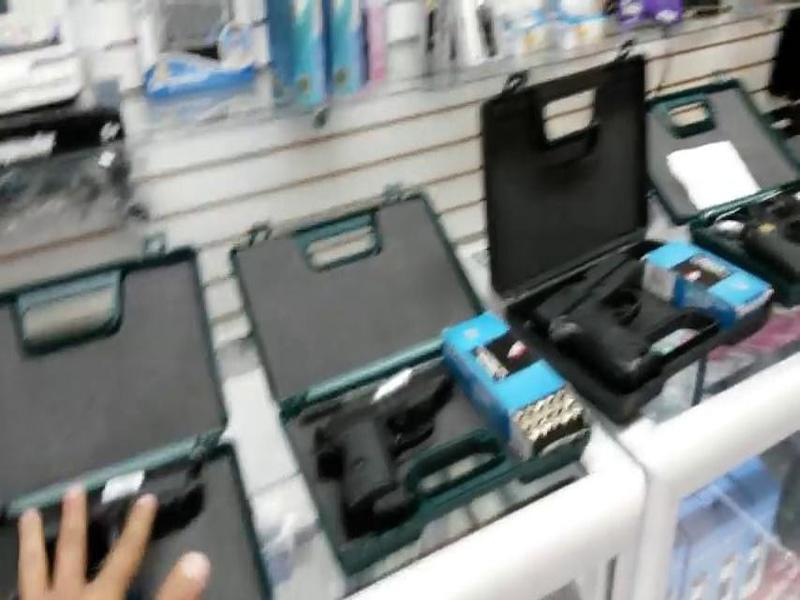Pistola: (283, 344, 498, 549), (519, 244, 683, 404)
